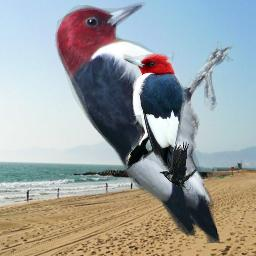Crow: (159, 140, 197, 194)
Woodpecker: (54, 2, 239, 243), (123, 50, 186, 174)
